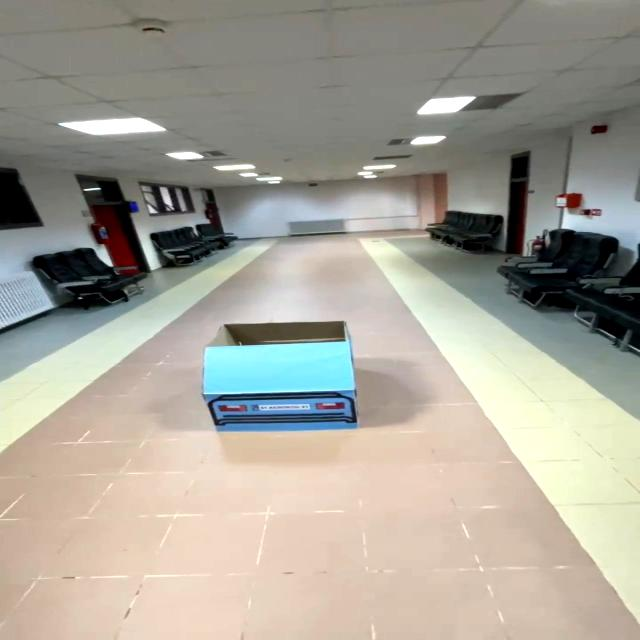blue_car: (176, 309, 381, 448)
